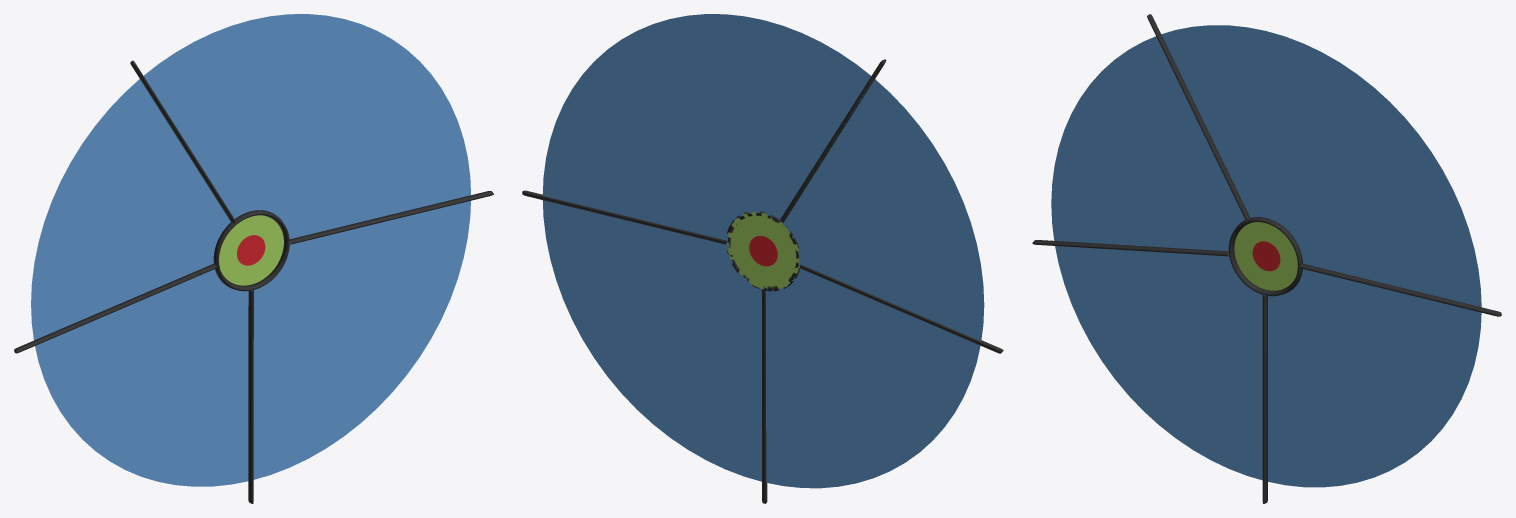
File: Darchary_L1.fbx
The picture shows the model from 3 angles, left to right: view 1: azimuth 30°, elevation 25°; view 2: azimuth 150°, elevation 25°; view 3: azimuth 330°, elevation 25°; orthographic projection. The views are drawn at different scales.
Visible parts, largest first — view 1: L1_A, L1_B, L1_C, L1_D, L1_DarkLine.003, L1_BullsEye_OR, L1_BullsEye; view 2: L1_A, L1_B, L1_C, L1_D, L1_DarkLine.003, L1_BullsEye_OR, L1_BullsEye; view 3: L1_A, L1_B, L1_C, L1_D, L1_DarkLine.003, L1_BullsEye_OR, L1_BullsEye.
Boxes of the visible parts, <box> form: L1_A: <box>144,14,470,238</box>; L1_B: <box>251,201,470,479</box>; L1_C: <box>35,269,248,486</box>; L1_D: <box>31,79,230,340</box>; L1_DarkLine.003: <box>14,60,493,503</box>; L1_BullsEye_OR: <box>219,215,283,285</box>; L1_BullsEye: <box>237,235,265,265</box>; L1_A: <box>542,14,872,241</box>; L1_B: <box>542,200,762,481</box>; L1_C: <box>766,266,980,488</box>; L1_D: <box>782,79,984,341</box>; L1_DarkLine.003: <box>522,59,1003,503</box>; L1_BullsEye_OR: <box>727,212,798,289</box>; L1_BullsEye: <box>749,236,777,266</box>; L1_A: <box>1161,25,1481,307</box>; L1_B: <box>1268,269,1481,487</box>; L1_C: <box>1055,246,1265,480</box>; L1_D: <box>1051,36,1245,253</box>; L1_DarkLine.003: <box>1032,14,1501,503</box>; L1_BullsEye_OR: <box>1234,222,1297,290</box>; L1_BullsEye: <box>1252,241,1280,271</box>.
Bounding box in the file's own units: 219 × 211 × 2.01.
